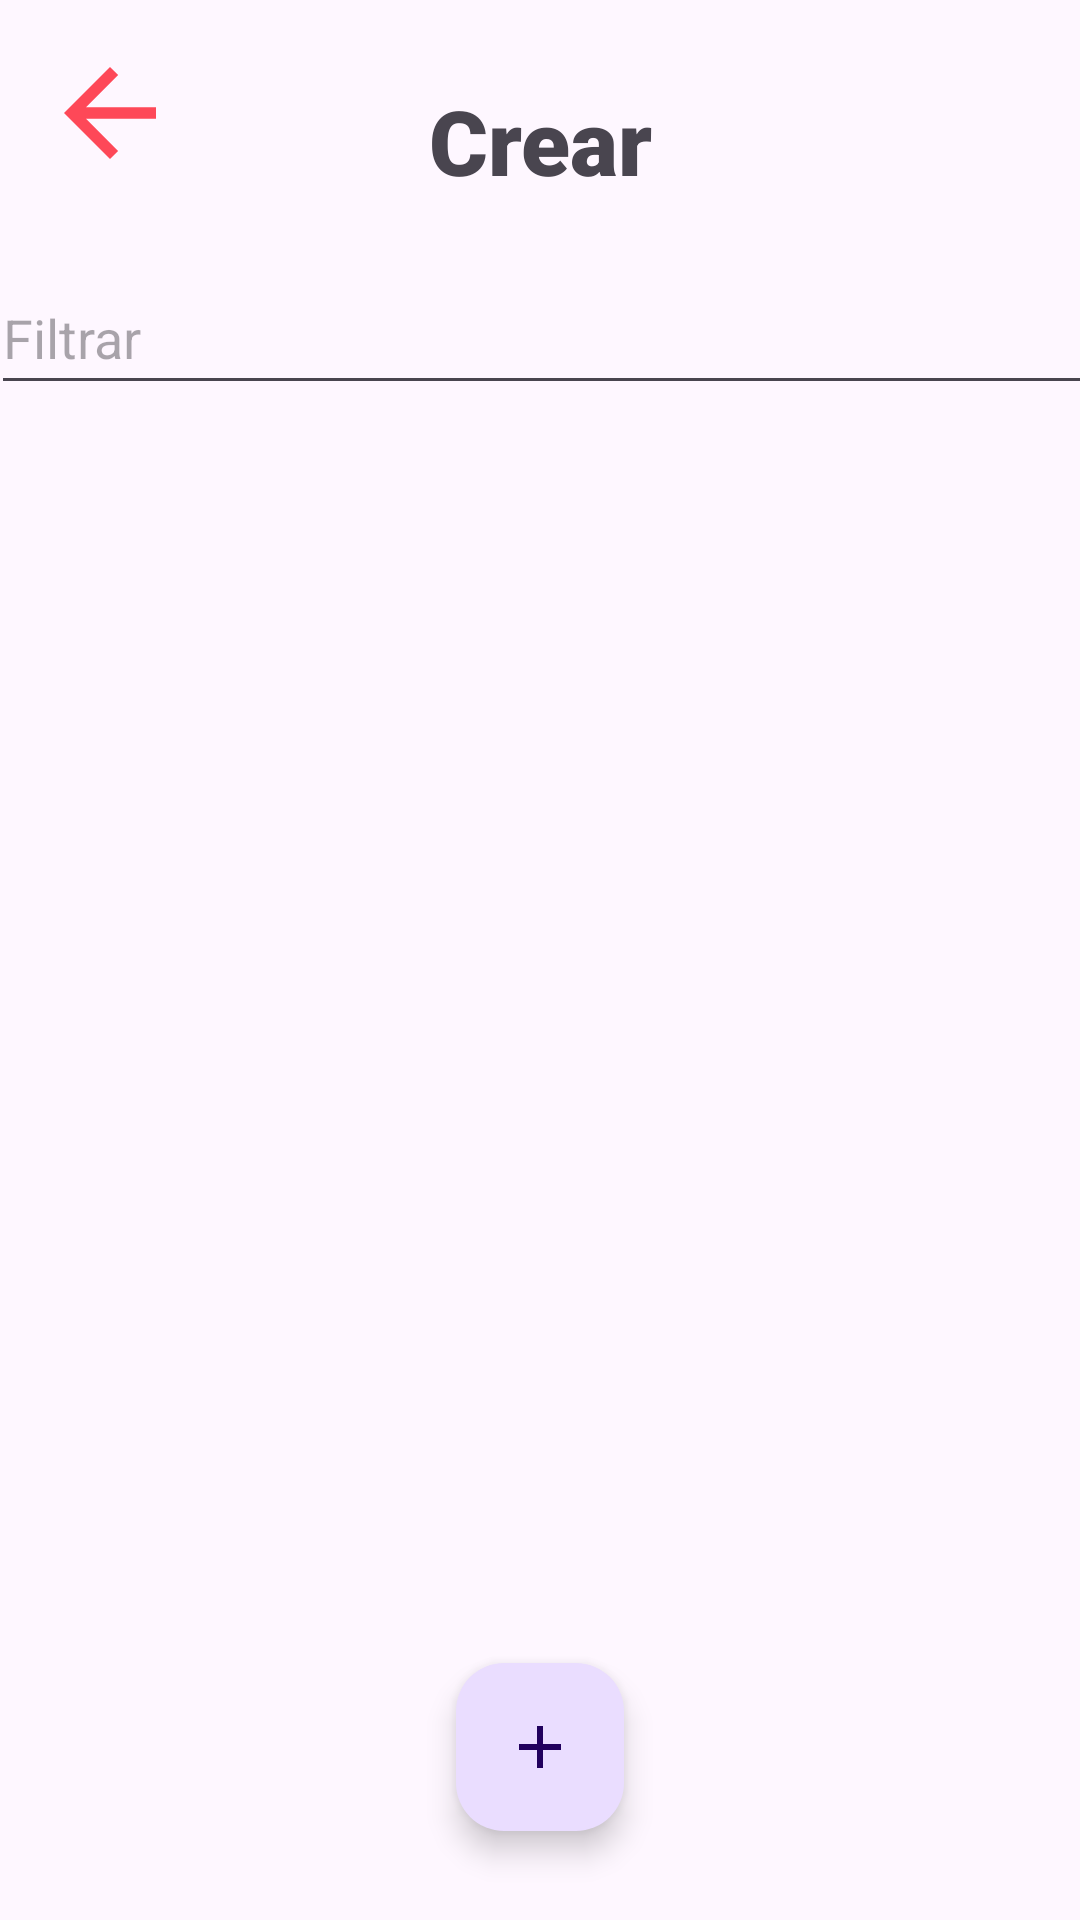

Locate icon controls on the screen. Image size 1080px x 1920px, boxes as (x1, y1, x2, y2).
add: (456, 1663, 624, 1831)
arrow back: (64, 67, 156, 159)
